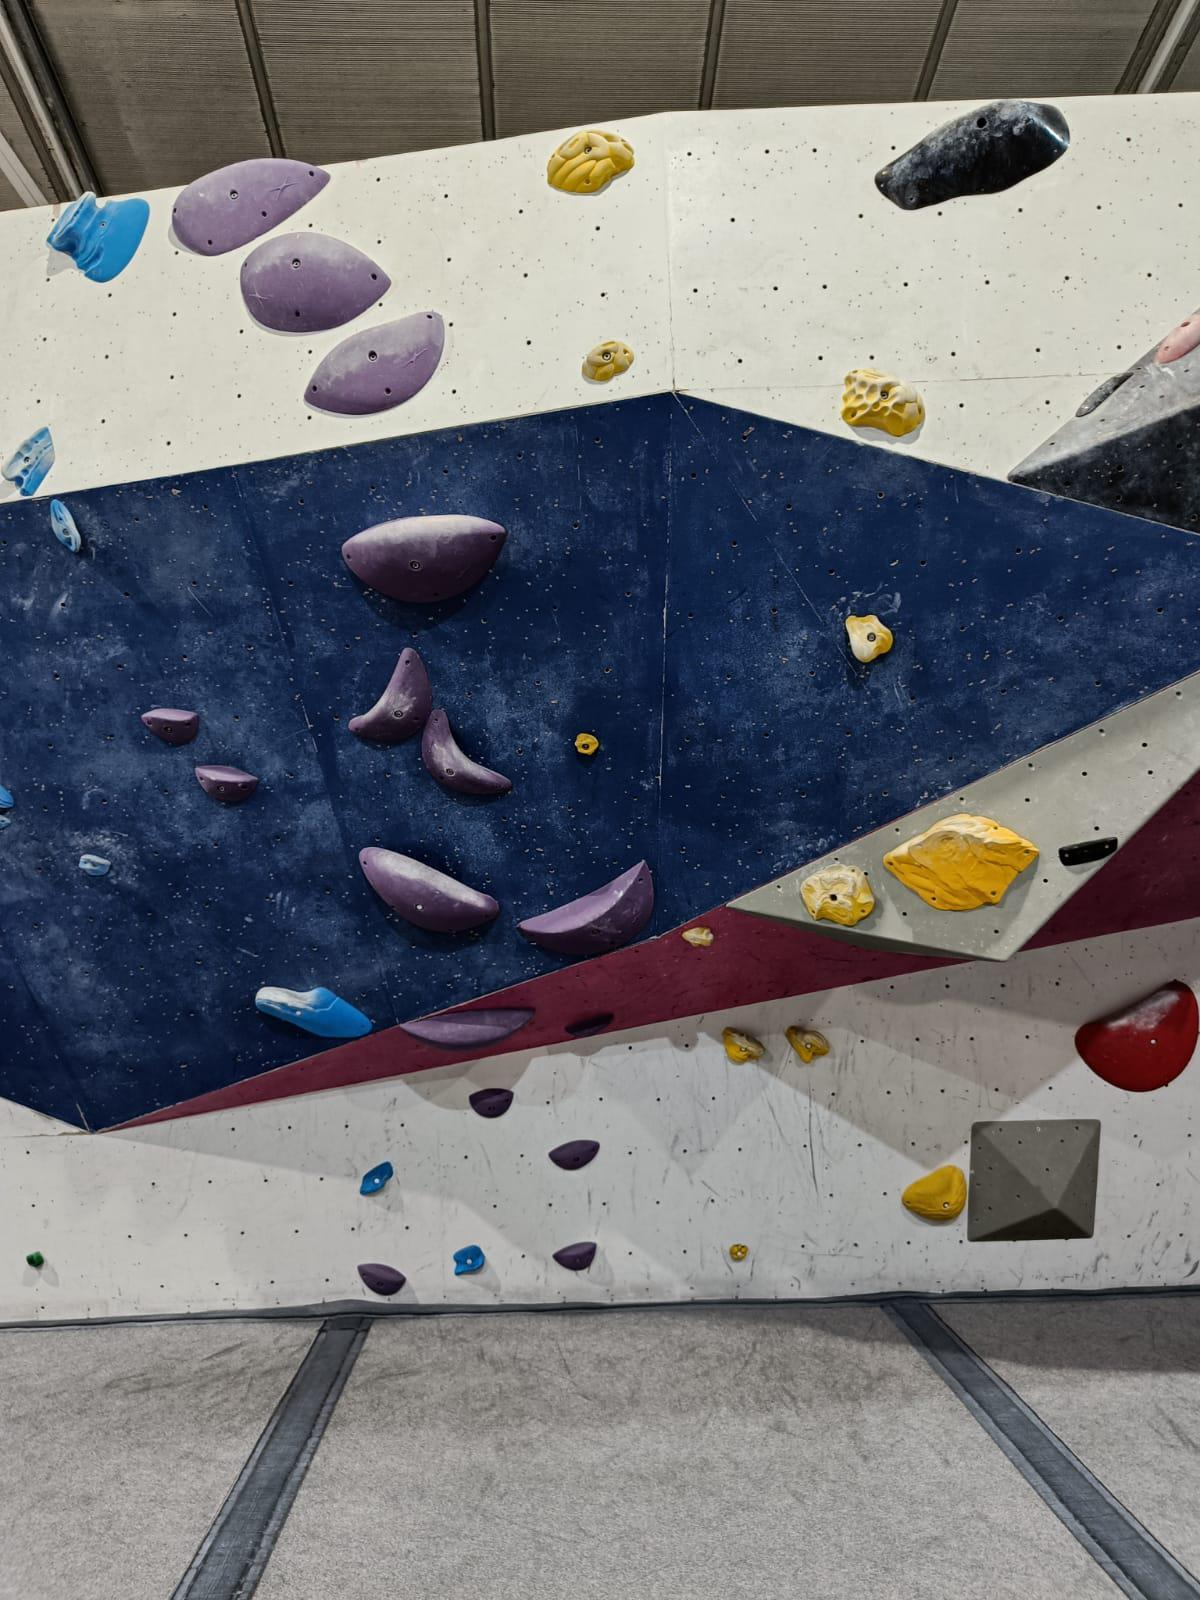hold: (874, 101, 1071, 212), (171, 157, 330, 256), (882, 813, 1040, 911), (241, 232, 392, 333), (342, 514, 507, 602), (304, 311, 444, 414), (1074, 981, 1199, 1092), (516, 859, 654, 955), (359, 847, 499, 932), (47, 190, 150, 283), (348, 646, 432, 742), (421, 709, 513, 794), (255, 985, 373, 1038), (400, 1008, 537, 1052), (839, 367, 925, 436), (546, 129, 635, 194), (799, 863, 876, 926), (1, 426, 55, 495), (901, 1164, 967, 1221), (1075, 372, 1134, 417), (194, 765, 260, 804), (845, 615, 894, 663), (581, 340, 634, 382), (1156, 314, 1200, 363), (141, 708, 200, 745), (785, 1024, 831, 1065), (1059, 837, 1118, 866), (357, 1262, 407, 1296), (50, 499, 82, 553), (548, 1139, 600, 1170), (722, 1027, 765, 1065), (552, 1241, 597, 1271), (563, 1012, 615, 1038), (469, 1089, 514, 1117), (358, 1160, 393, 1194), (453, 1245, 484, 1276), (679, 926, 715, 947), (79, 853, 112, 876), (575, 732, 599, 756), (0, 782, 15, 811), (729, 1243, 749, 1262), (25, 1251, 45, 1267), (0, 814, 11, 830)
volume: (725, 671, 1200, 963), (1006, 306, 1200, 534), (967, 1119, 1100, 1242)
